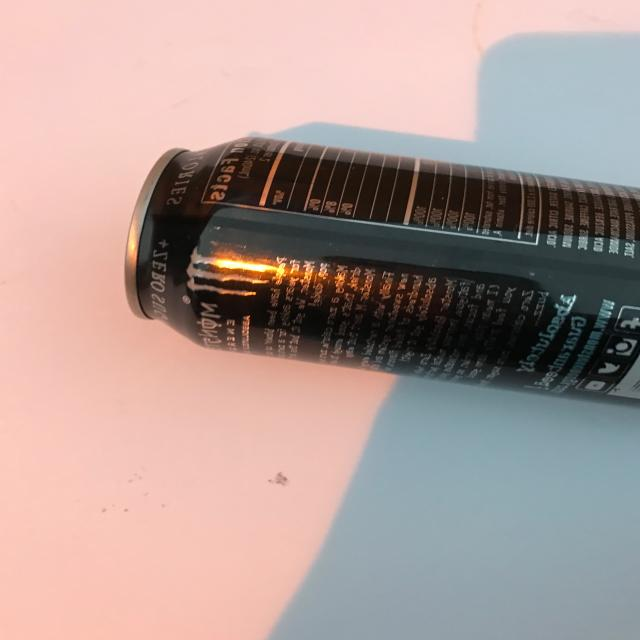metal: (124, 135, 640, 407)
